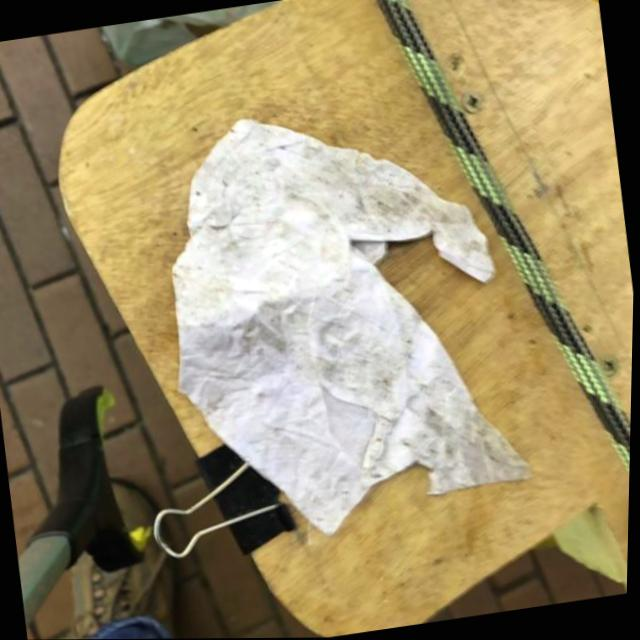Paper: (137, 80, 549, 560)
